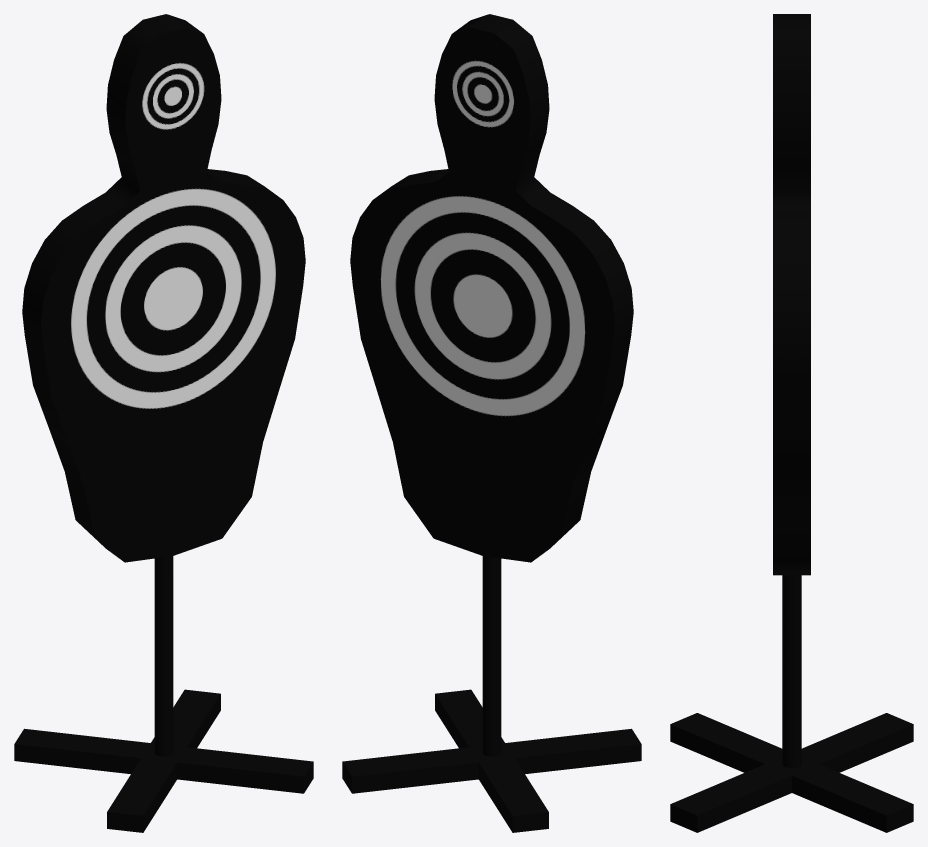
File: Targett.fbx
3 views of the same model, side by side, from view 1: azimuth 30°, elevation 25°; view 2: azimuth 150°, elevation 25°; view 3: azimuth 270°, elevation 25° (orthographic). The views are drawn at different scales.
Parts seen in each view (by area): view 1: 개체_1; view 2: 개체_1; view 3: 개체_1.
Part boxes in pixels (x1,y1,x2,y2): 개체_1: [14, 14, 313, 832]; 개체_1: [342, 14, 641, 832]; 개체_1: [670, 14, 913, 832].
Bounding box in the file's own units: 3.27 × 8.79 × 2.55.
1 material, 1 textured.
